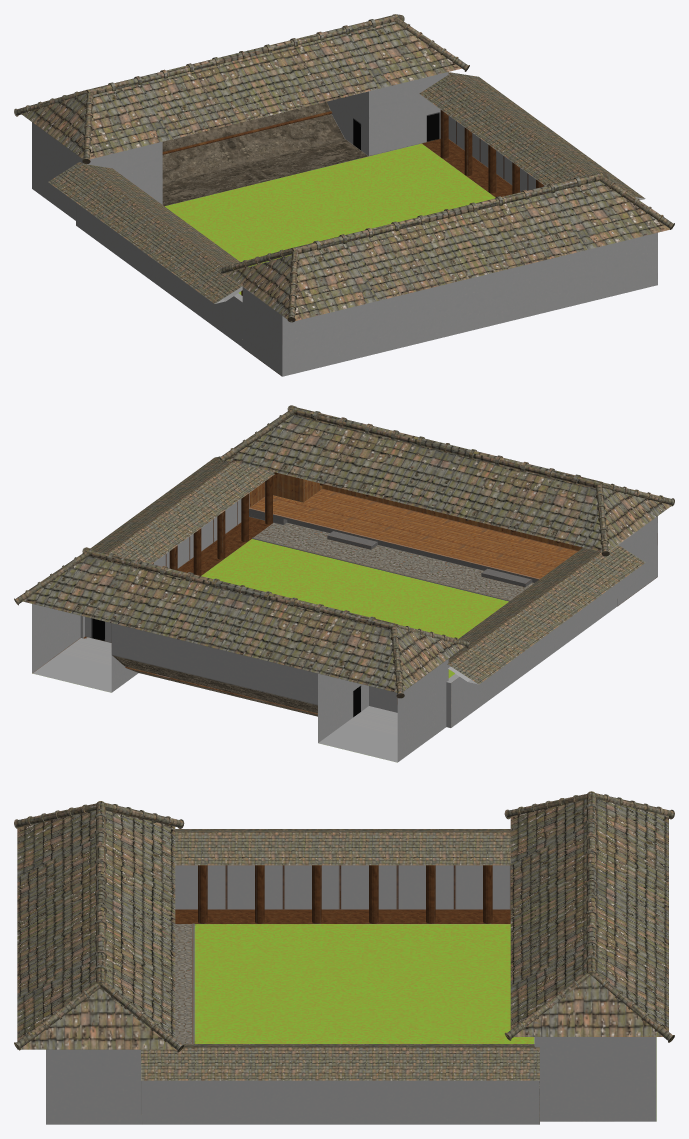
File: ステージ.fbx
The picture shows the model from 3 angles, top to bottom: view 1: azimuth 30°, elevation 25°; view 2: azimuth 150°, elevation 25°; view 3: azimuth 270°, elevation 25°; orthographic projection. The views are drawn at different scales.
Visible parts, largest first — view 1: 芝生.005; view 2: 芝生.005; view 3: 芝生.005.
Part boxes in pixels (x1,y1,x2,y2): 芝生.005: [14, 14, 674, 376]; 芝生.005: [14, 405, 674, 762]; 芝生.005: [14, 791, 674, 1124].
Size of the model in its own units: 12534 by 3131 by 13913.
1 material, 1 textured.
